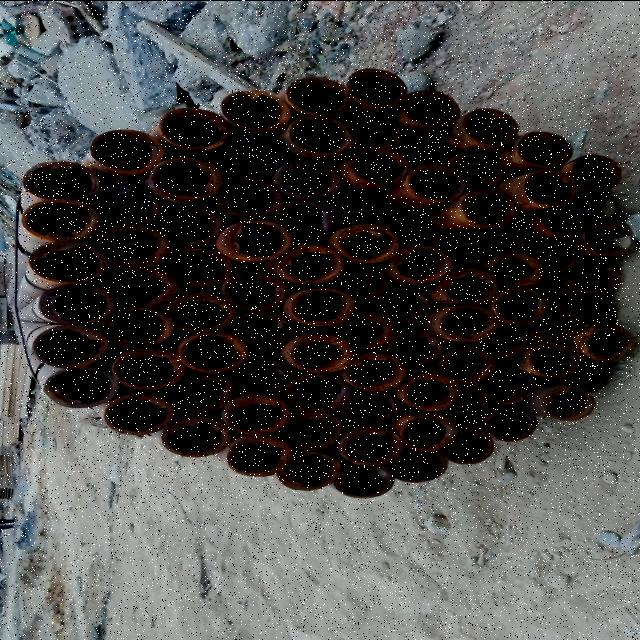pipe: (29, 323, 110, 368), (90, 128, 168, 174), (18, 200, 102, 242), (42, 366, 122, 409), (17, 159, 103, 199), (28, 242, 108, 284), (87, 183, 165, 226), (157, 106, 233, 150), (110, 347, 184, 392), (104, 266, 182, 308), (95, 225, 173, 267), (104, 391, 178, 435), (220, 88, 292, 132), (149, 156, 224, 198), (220, 219, 294, 261), (153, 202, 224, 245), (99, 306, 175, 346), (162, 415, 234, 457), (274, 449, 344, 492), (346, 144, 416, 187), (36, 285, 115, 323), (175, 331, 250, 371), (220, 270, 291, 312), (274, 159, 346, 200), (166, 290, 236, 332), (217, 175, 287, 217), (168, 245, 236, 288), (222, 394, 295, 434), (286, 334, 358, 374), (228, 435, 296, 477), (288, 114, 356, 156), (168, 371, 235, 413), (286, 286, 356, 326), (277, 244, 347, 284), (385, 244, 455, 284), (396, 87, 464, 128), (280, 410, 346, 452), (286, 74, 352, 116), (342, 353, 410, 393), (333, 223, 401, 263), (399, 371, 463, 413), (227, 354, 294, 394), (210, 140, 280, 178), (282, 374, 352, 412), (336, 428, 404, 467), (346, 66, 408, 108), (272, 200, 336, 240), (436, 304, 501, 343), (338, 388, 401, 428), (398, 412, 461, 452), (335, 311, 397, 351), (406, 163, 468, 203), (457, 187, 519, 227), (231, 312, 297, 349), (436, 268, 502, 304), (460, 107, 519, 147), (446, 150, 508, 188), (489, 286, 551, 324), (386, 329, 446, 367), (514, 130, 573, 168), (522, 168, 578, 208), (344, 111, 406, 147), (488, 251, 548, 288), (334, 262, 390, 301), (326, 188, 386, 224), (440, 348, 500, 384), (430, 232, 490, 268), (472, 322, 532, 358), (540, 384, 596, 422), (337, 462, 396, 498), (392, 446, 451, 482), (580, 219, 636, 256), (444, 426, 498, 464), (374, 287, 434, 321), (571, 153, 621, 193), (440, 389, 492, 427), (528, 342, 582, 378), (478, 221, 536, 254), (539, 200, 592, 236), (524, 239, 580, 273), (582, 327, 638, 361), (484, 366, 534, 404), (526, 308, 580, 342), (488, 406, 538, 442), (570, 258, 622, 292), (382, 210, 432, 244), (568, 292, 618, 326), (562, 359, 612, 392), (535, 272, 579, 308), (399, 132, 445, 164), (580, 191, 620, 222)
